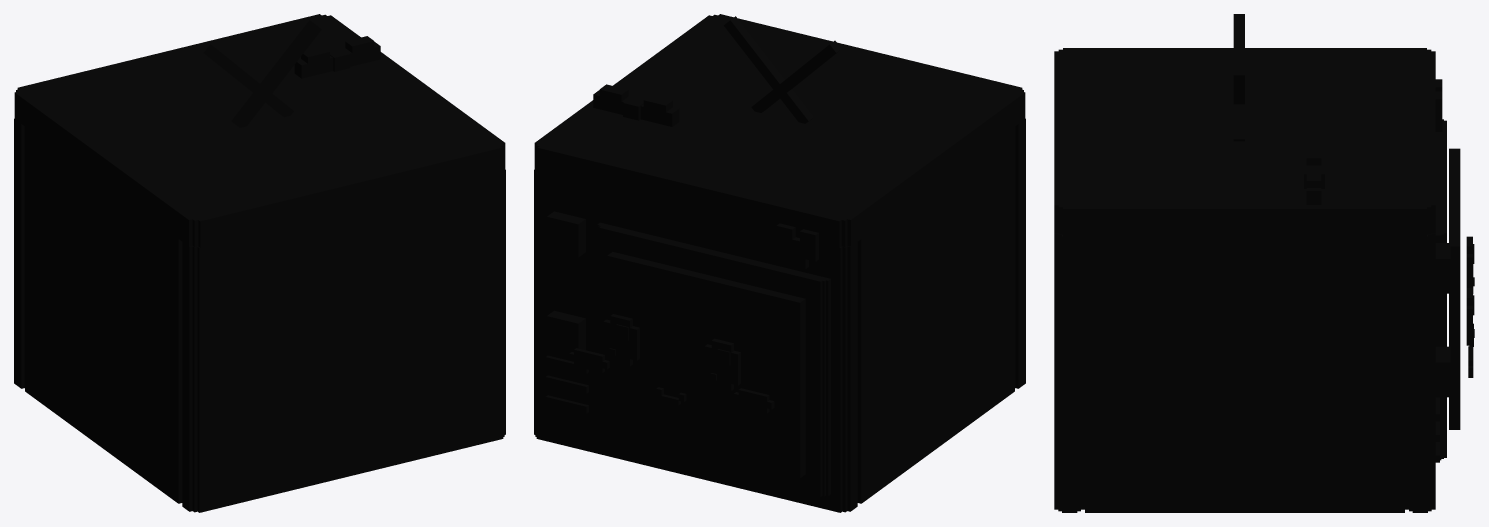
Rendered from hat_retro_tv.obj.
3 renders of one model, left to right at view 1: azimuth 30°, elevation 25°; view 2: azimuth 150°, elevation 25°; view 3: azimuth 270°, elevation 25°, orthographic. The views are drawn at different scales.
Bounding box in the file's own units: 0.625 × 0.7113 × 0.6891.
